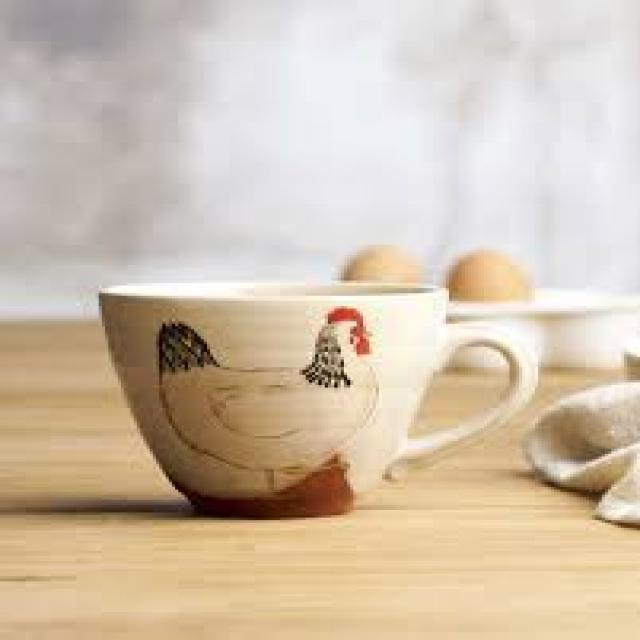taza: (96, 282, 538, 522)
